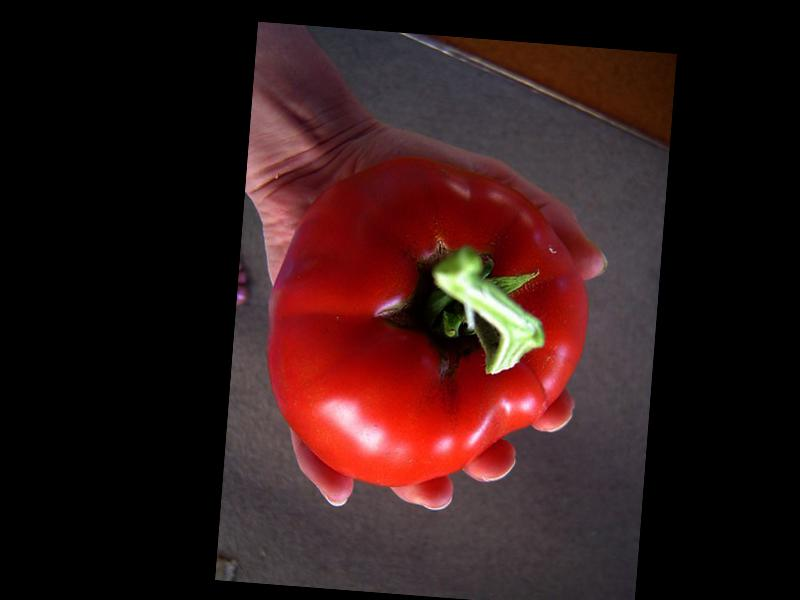Tomato: (257, 148, 599, 500)
